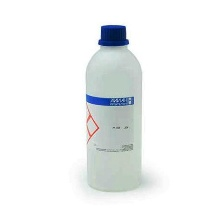cleaning_solution: (83, 21, 145, 195)
